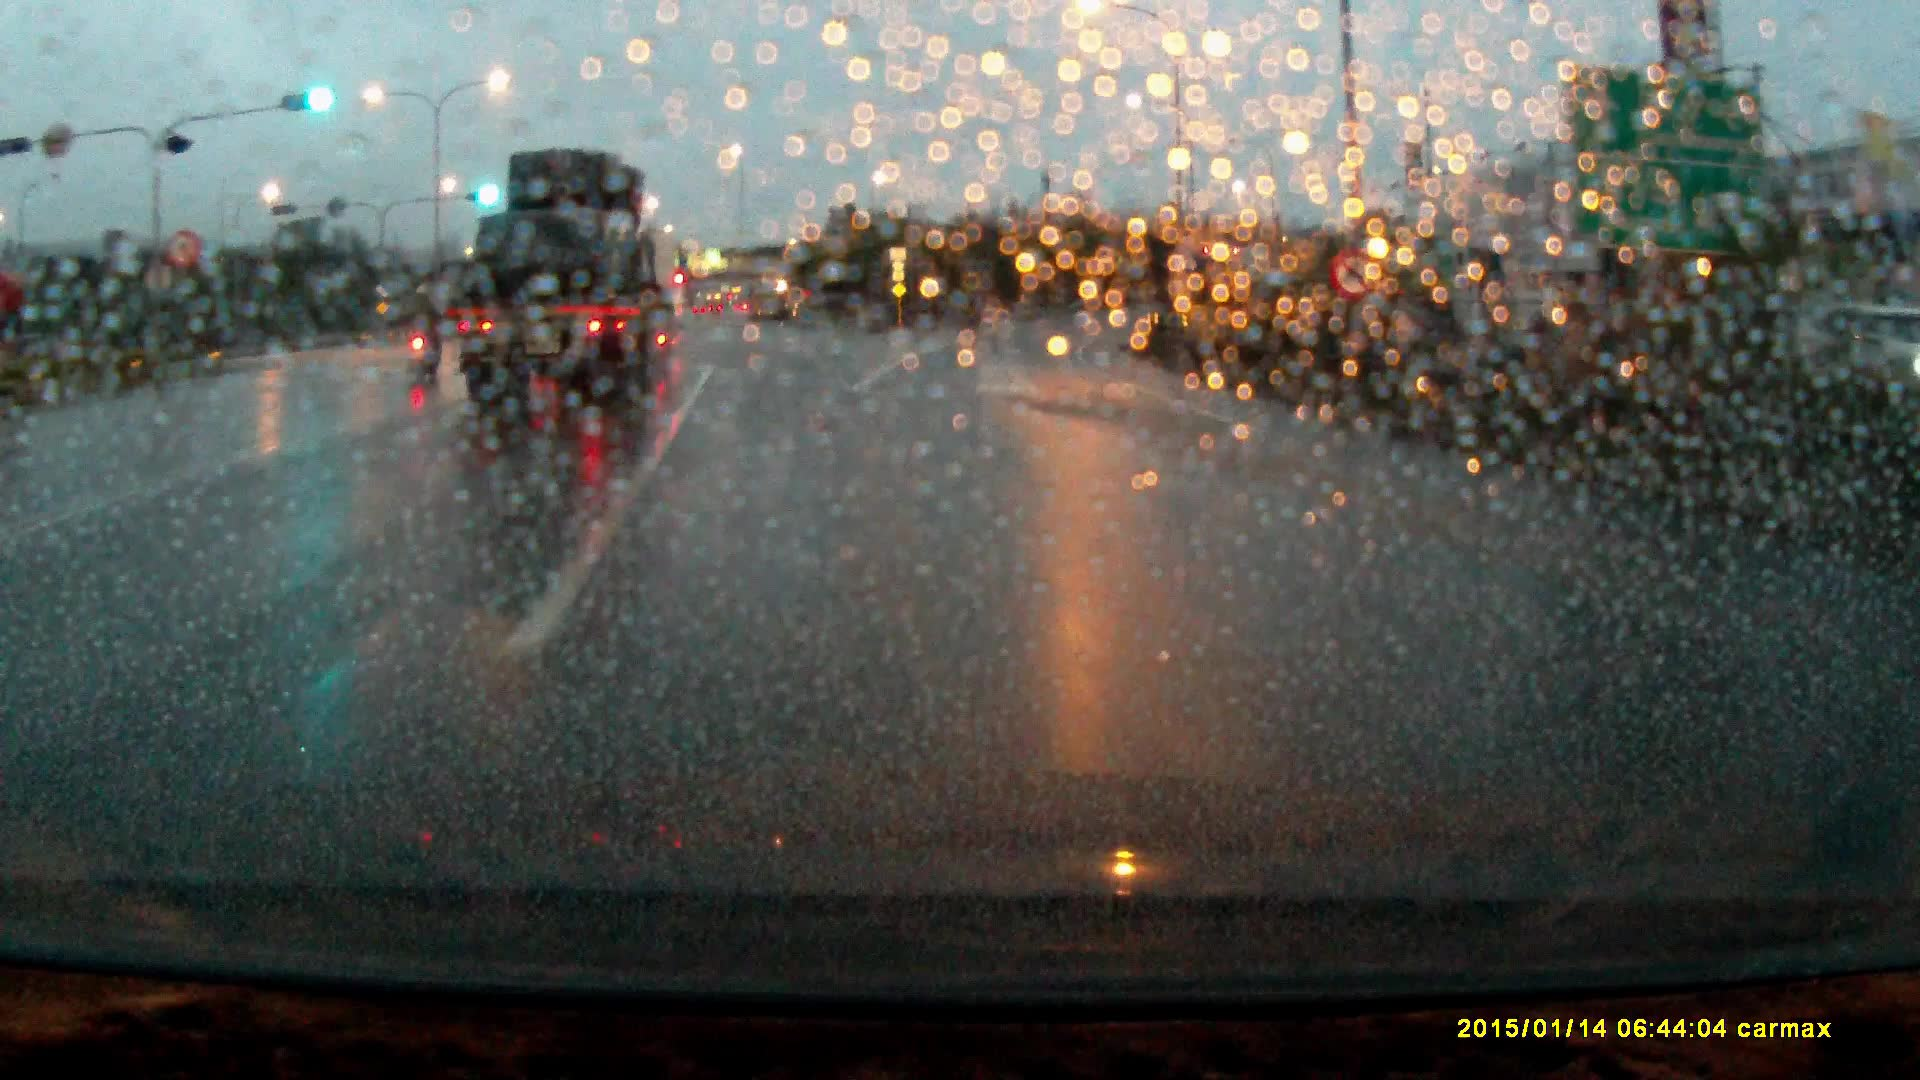rider: (396, 286, 448, 396)
vehicle: (460, 150, 678, 425)
